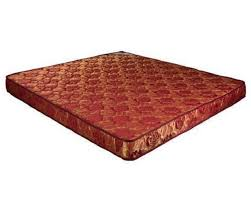bed-matress: (5, 50, 247, 159)
